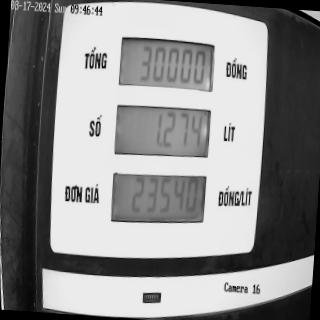screen: (105, 30, 218, 234)
